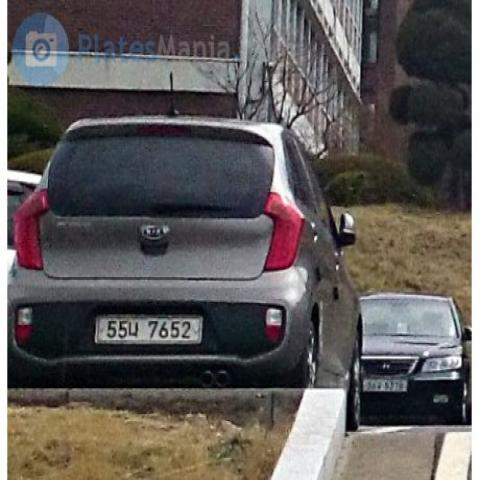LP: (88, 300, 206, 348), (362, 370, 412, 398)
